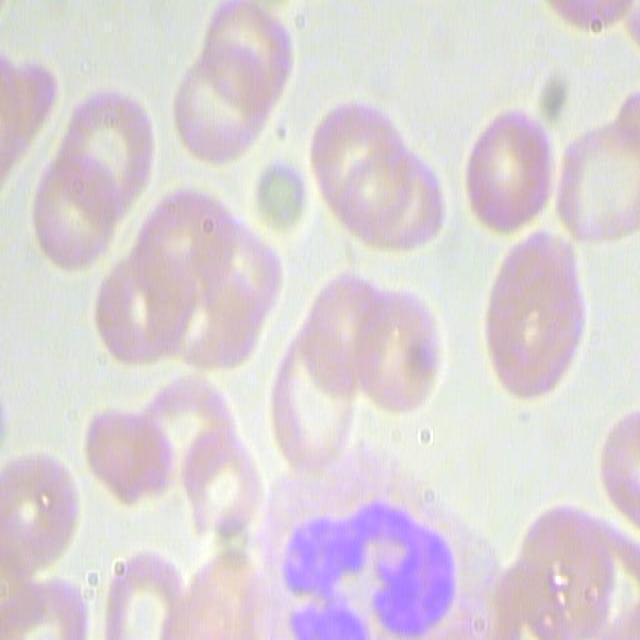RBC: (476, 228, 599, 409), (163, 41, 289, 175), (304, 85, 413, 232), (346, 283, 455, 421), (453, 108, 555, 243), (24, 151, 127, 276), (91, 241, 190, 368), (60, 82, 153, 210), (191, 218, 292, 326), (174, 428, 265, 541), (83, 404, 175, 509), (169, 269, 263, 371)
WBC: (244, 436, 509, 640)
